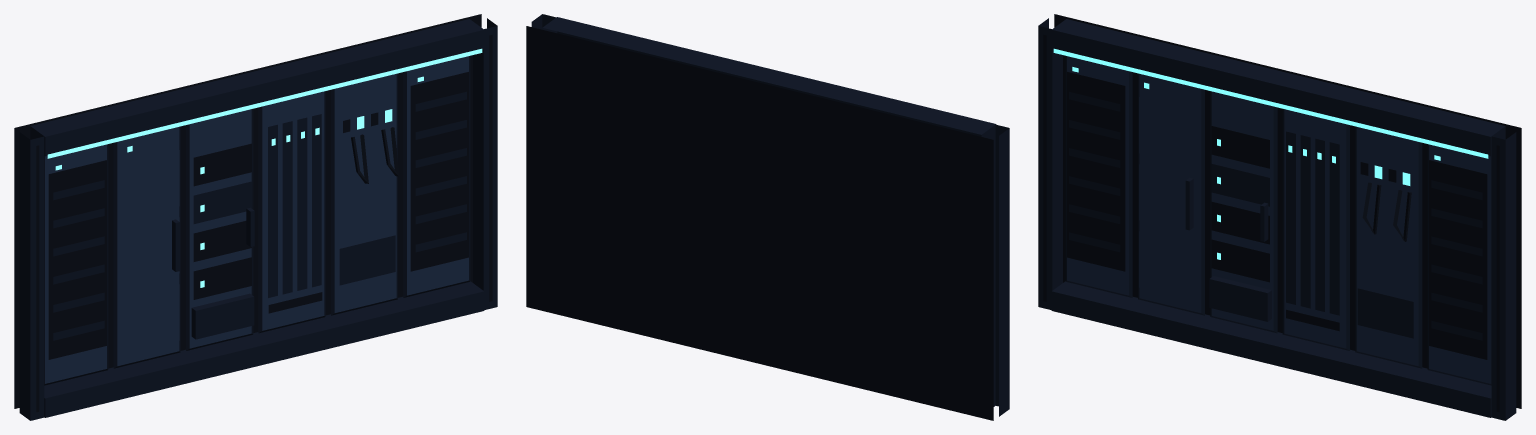
File: RackFacade_V04.fbx
3 views of the same model, side by side, from view 1: azimuth 30°, elevation 25°; view 2: azimuth 150°, elevation 25°; view 3: azimuth 330°, elevation 25° (orthographic).
Parts seen in each view (by area): view 1: KIT_RackFacade_V04_Mesh; view 2: KIT_RackFacade_V04_Mesh; view 3: KIT_RackFacade_V04_Mesh.
Part boxes in pixels (left/top/right/bottom): KIT_RackFacade_V04_Mesh: left=14, top=14, right=497, bottom=420; KIT_RackFacade_V04_Mesh: left=526, top=14, right=1009, bottom=420; KIT_RackFacade_V04_Mesh: left=1038, top=14, right=1521, bottom=420.
Size of the model in its own units: 4 by 2.3 by 0.2645.
